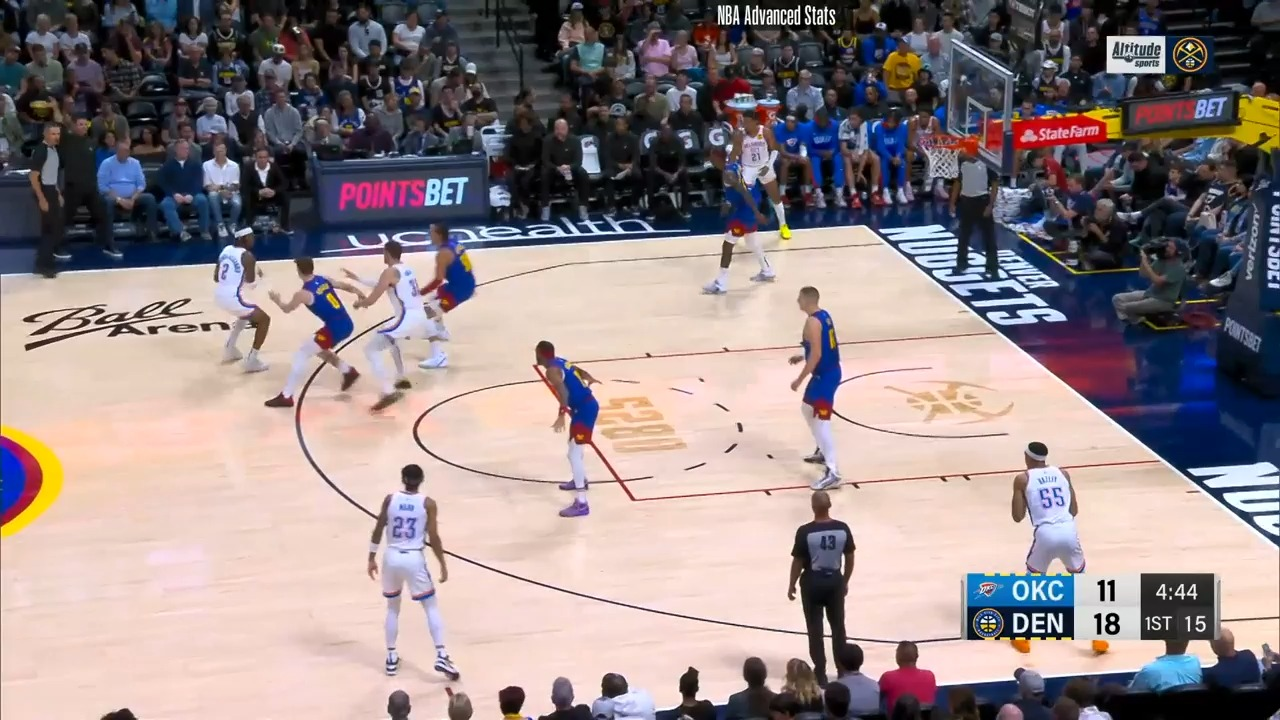net: (920, 132, 980, 180)
player: (367, 457, 459, 688), (268, 259, 372, 416), (525, 338, 611, 524), (354, 240, 444, 413), (783, 281, 852, 495), (1012, 440, 1097, 582), (213, 225, 288, 373), (705, 158, 777, 299), (413, 220, 476, 375), (728, 111, 794, 248)
referee: (789, 488, 866, 676), (948, 143, 1005, 286), (25, 122, 70, 284)
